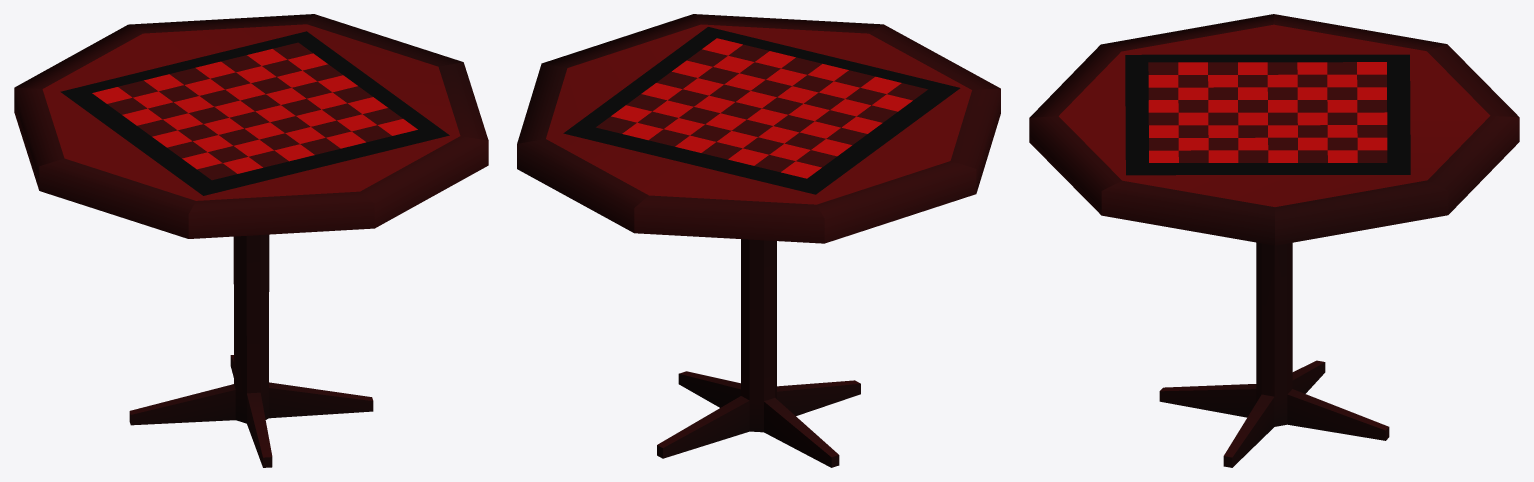
Rendered from ChessTable.glb.
The picture shows the model from 3 angles, left to right: view 1: azimuth 30°, elevation 25°; view 2: azimuth 150°, elevation 25°; view 3: azimuth 270°, elevation 25°; orthographic projection. The views are drawn at different scales.
Parts seen in each view (by area): view 1: ChessTable; view 2: ChessTable; view 3: ChessTable.
Part boxes in pixels (bbox=[...]): ChessTable: bbox=[14, 14, 488, 467]; ChessTable: bbox=[517, 14, 1000, 467]; ChessTable: bbox=[1029, 14, 1519, 467].
Bounding box in the file's own units: 5.75 × 3.97 × 5.75.
